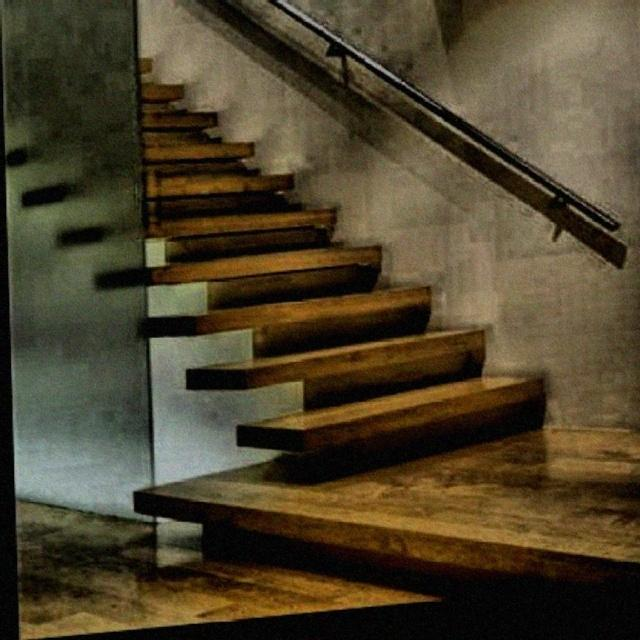stair: (63, 26, 544, 454)
